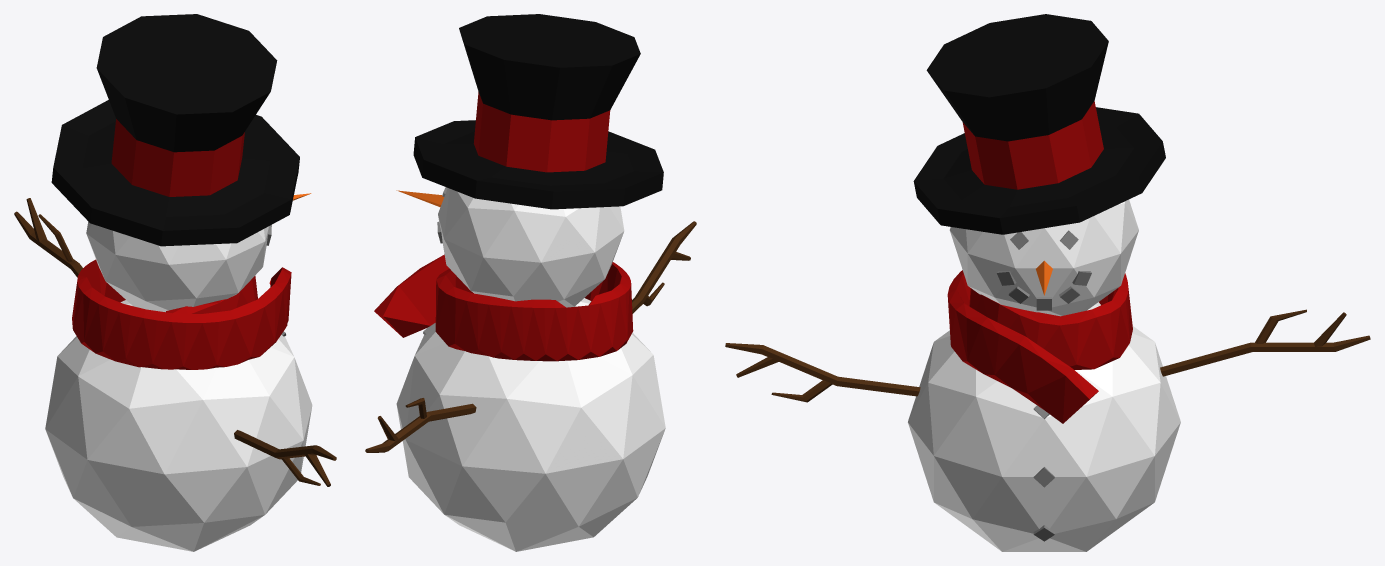
Rendered from snowman_only.fbx.
3 views of the same model, side by side, from view 1: azimuth 30°, elevation 25°; view 2: azimuth 150°, elevation 25°; view 3: azimuth 270°, elevation 25° (orthographic).
Parts seen in each view (by area): view 1: hat, snowball_bottom, scarf, snowball_top, hands; view 2: snowball_bottom, hat, snowball_top, scarf, hands; view 3: snowball_bottom, hat, scarf, snowball_top, hands, smile.
Boxes of the visible parts, x1=… form: hat: x1=51, y1=14, x2=299, y2=246; snowball_bottom: x1=45, y1=300, x2=312, y2=551; scarf: x1=72, y1=259, x2=291, y2=369; snowball_top: x1=86, y1=222, x2=269, y2=312; hands: x1=14, y1=198, x2=336, y2=486; snowball_bottom: x1=396, y1=298, x2=665, y2=551; hat: x1=413, y1=14, x2=663, y2=209; snowball_top: x1=438, y1=188, x2=624, y2=307; scarf: x1=374, y1=254, x2=633, y2=361; hands: x1=365, y1=221, x2=696, y2=452; snowball_bottom: x1=908, y1=302, x2=1180, y2=551; hat: x1=913, y1=14, x2=1165, y2=234; scarf: x1=947, y1=270, x2=1132, y2=423; snowball_top: x1=949, y1=199, x2=1138, y2=316; hands: x1=725, y1=309, x2=1370, y2=402; smile: x1=997, y1=271, x2=1091, y2=310.
Bounding box in the file's own units: 208 × 406 × 472.
